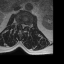CCS_normal: (22, 22, 24, 30)
LFS_stenosis: (26, 22, 28, 28)
LLS_normal: (24, 22, 26, 28)
RFS_severe_stenosis: (19, 21, 20, 26)
RLS_stenosis: (20, 22, 22, 28)
